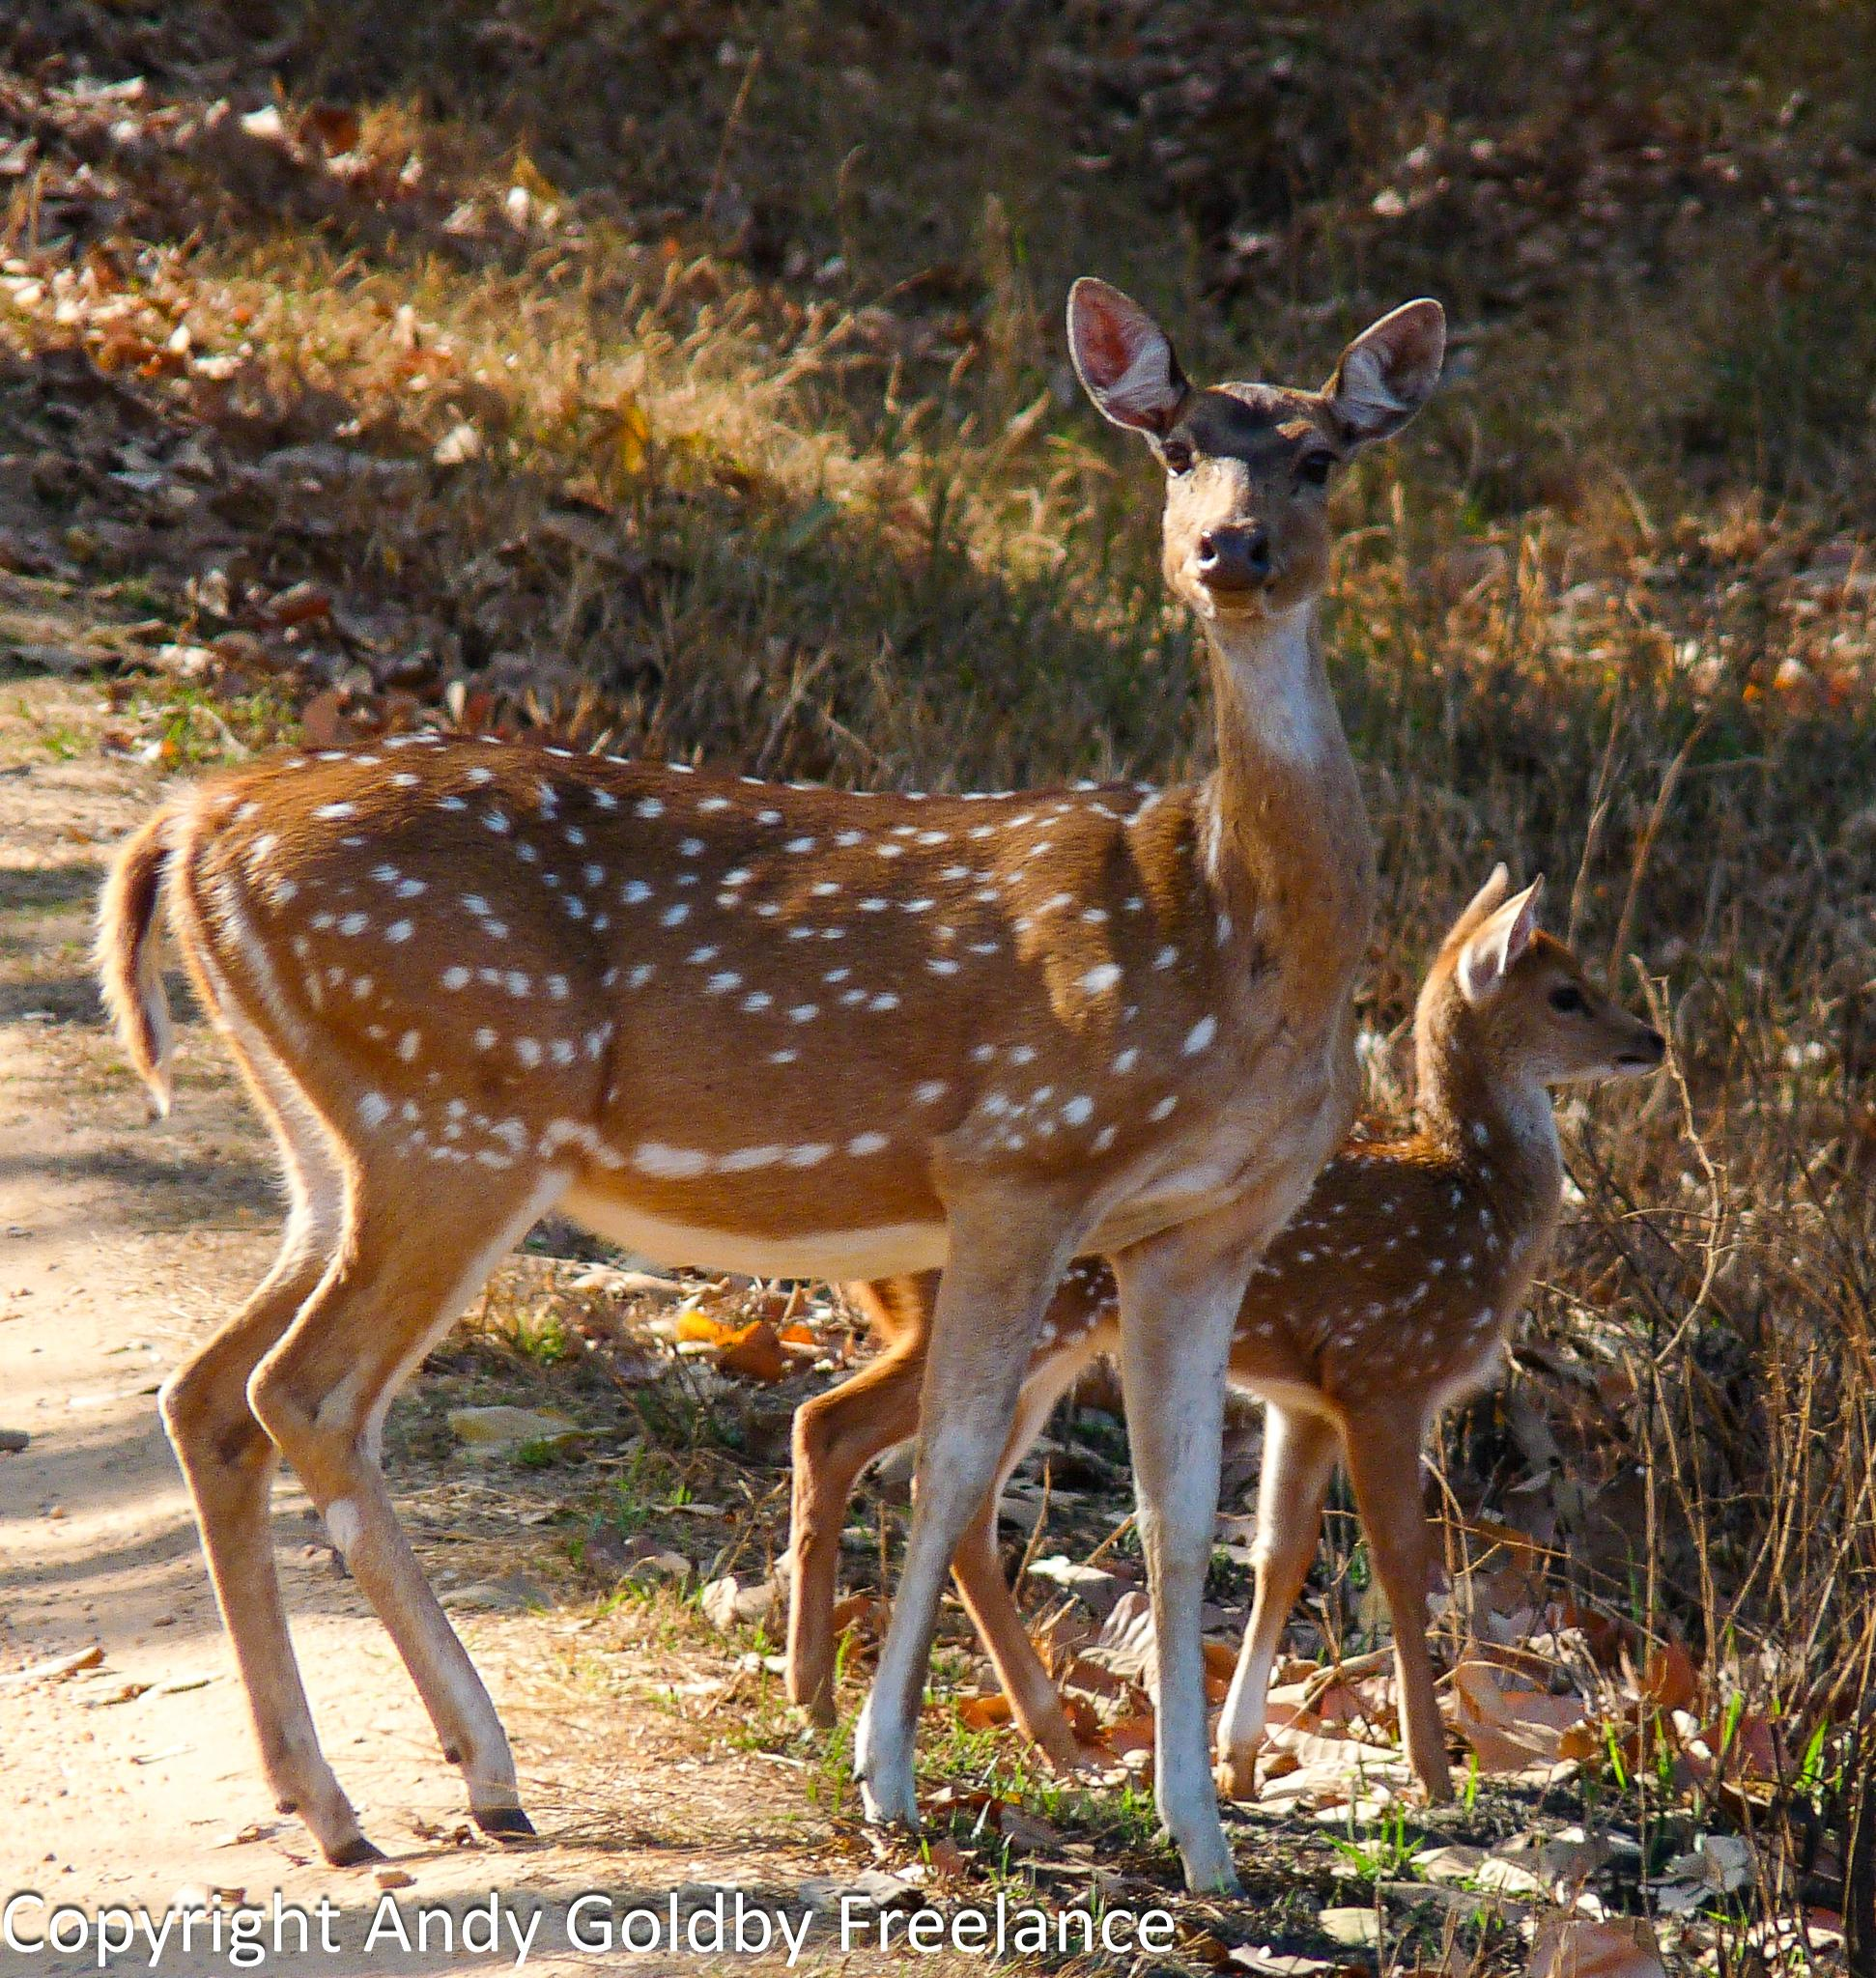Deer: (99, 279, 1446, 1885), (1222, 869, 1663, 1800)
